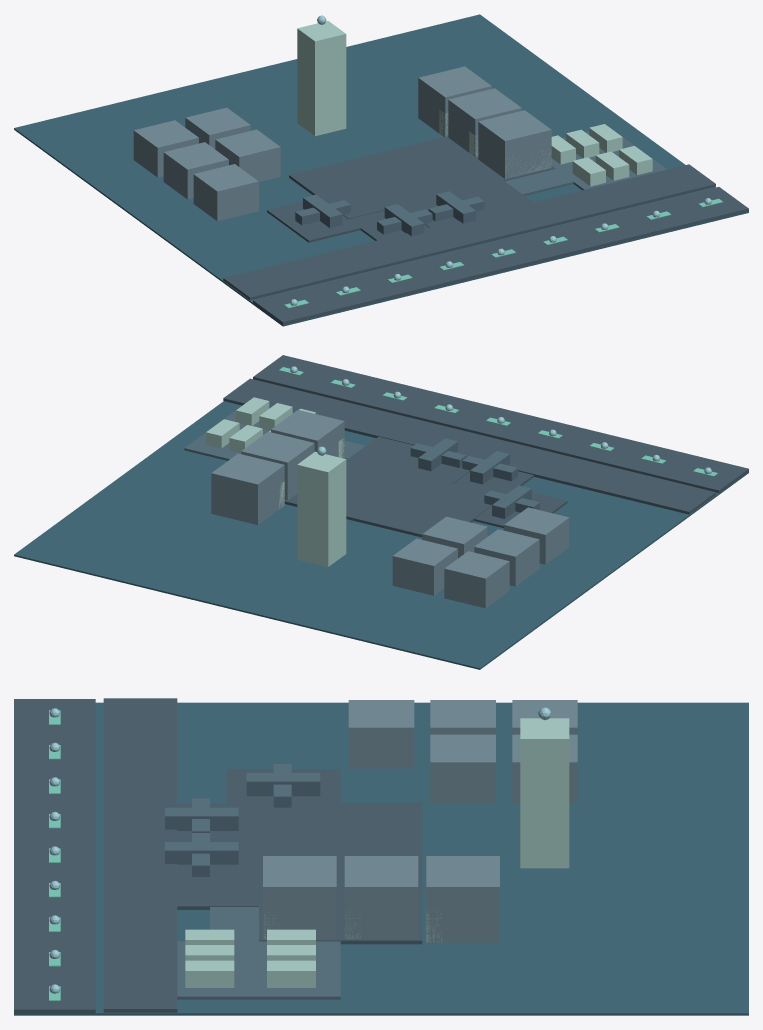
File: stage_20.glb
3 renders of one model, top to bottom at view 1: azimuth 30°, elevation 25°; view 2: azimuth 150°, elevation 25°; view 3: azimuth 270°, elevation 25°, orthographic. The views are drawn at different scales.
Parts seen in each view (by area): view 1: geometry_0; view 2: geometry_0; view 3: geometry_0.
Boxes of the visible parts, x1,y1,x2,y2 form: geometry_0: [14, 14, 748, 326]; geometry_0: [14, 355, 748, 669]; geometry_0: [14, 698, 748, 1015].
Bounding box in the file's own units: 9 × 2.06 × 9.
